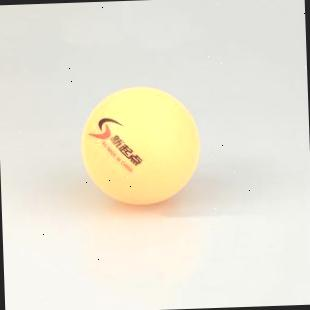ball: (75, 82, 202, 210)
